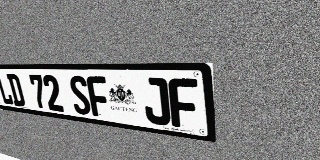2: (42, 75, 64, 112)
7: (28, 74, 49, 110)
D: (6, 74, 26, 107)
F: (168, 78, 200, 130), (86, 76, 112, 118)
J: (141, 77, 171, 126)
L: (0, 74, 14, 105)
S: (68, 75, 92, 116)
